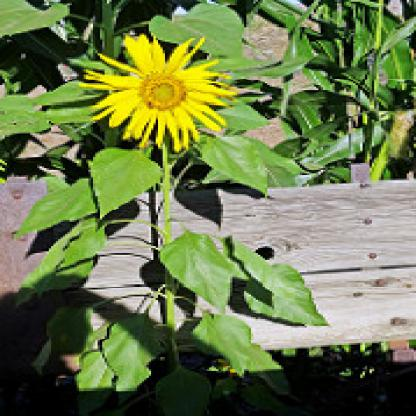SUN FLOWER: (57, 13, 271, 181)
